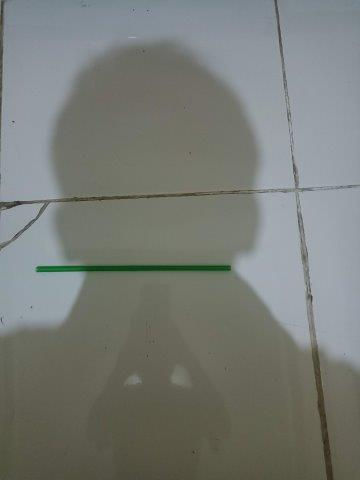sedotan: (36, 265, 231, 272)
